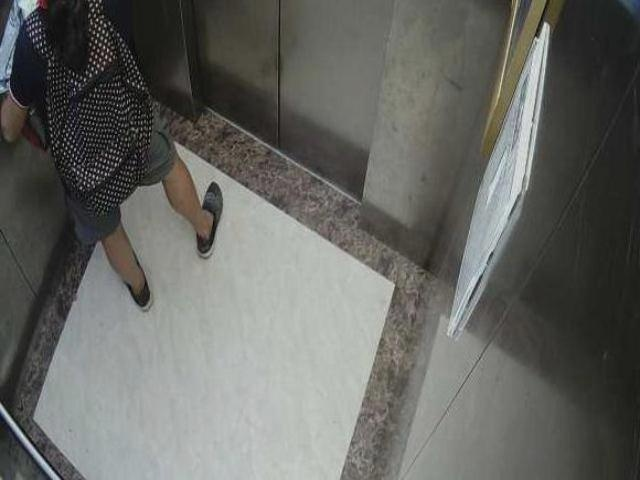bag: (39, 38, 151, 207)
